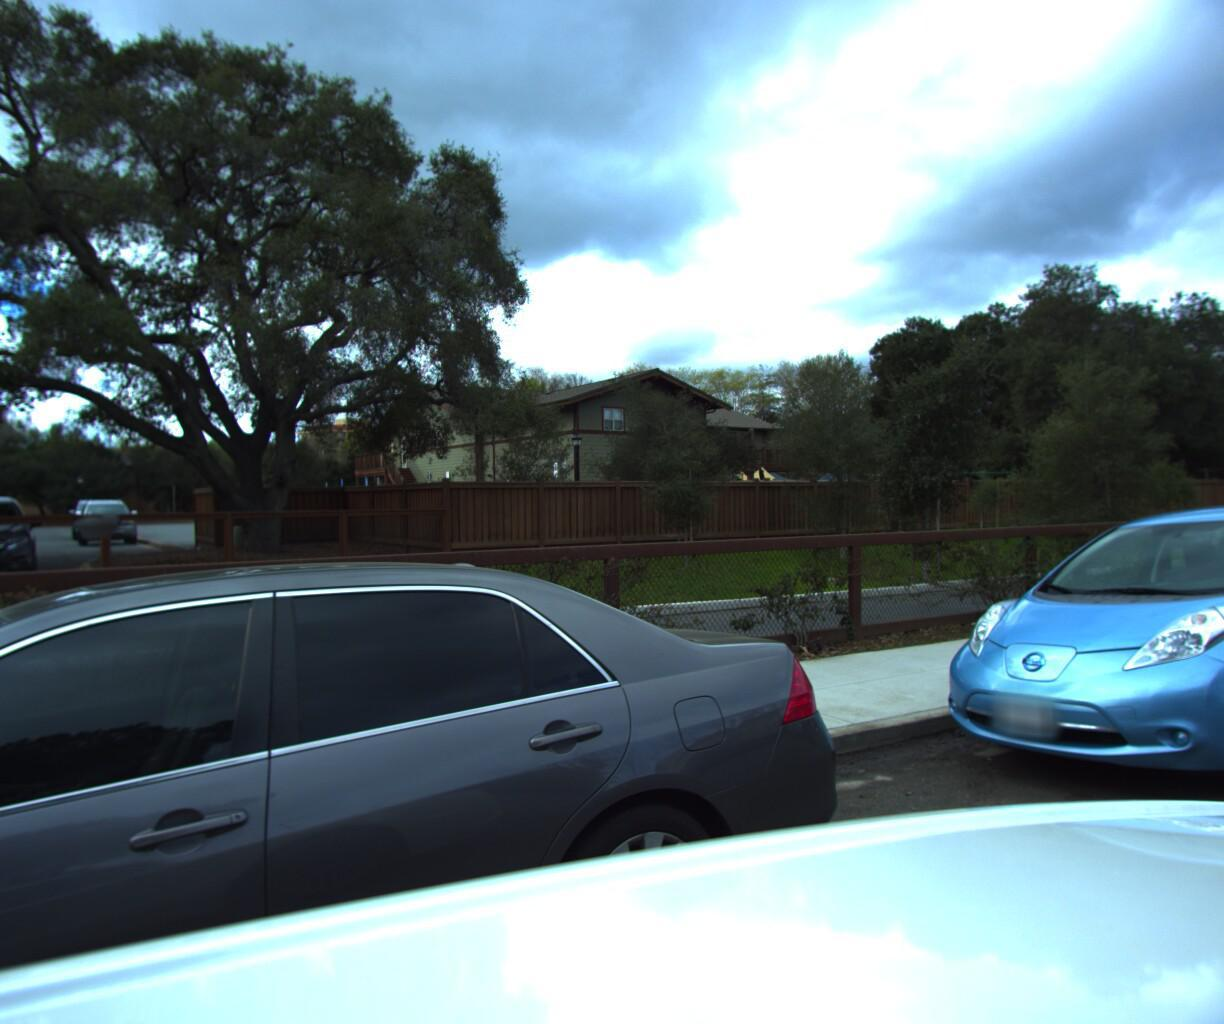car: (0, 525, 913, 1024), (903, 490, 1224, 857)
